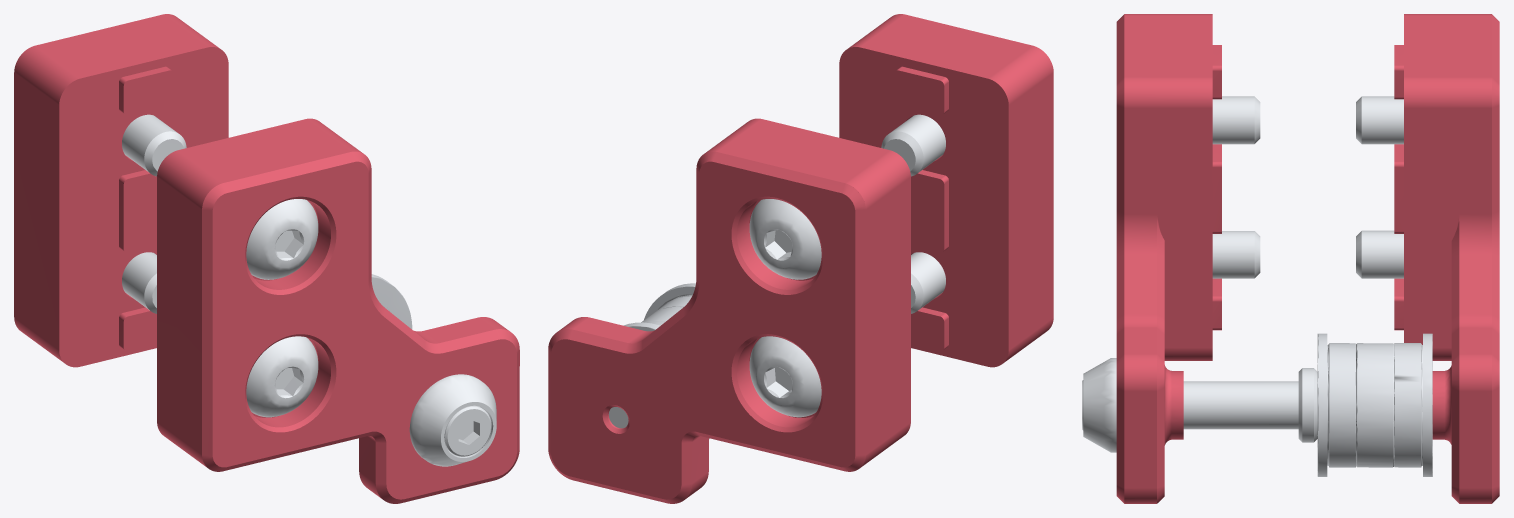
3 views of the same model, side by side, from view 1: azimuth 30°, elevation 25°; view 2: azimuth 150°, elevation 25°; view 3: azimuth 270°, elevation 25° (orthographic). The views are drawn at different scales.
Visible parts, largest first — view 1: B前惰轮_1, B前惰轮, M3铝合金垫圈, M5x12-圆头, M5x12-圆头_9, M5x12-圆头_11, M3x40-杯头, M5x12-圆头_10, 轴承-F695ZZ_5; view 2: B前惰轮, B前惰轮_1, M5x12-圆头_11, M5x12-圆头_10, M5x12-圆头_9, M5x12-圆头, 轴承-F695ZZ_5; view 3: B前惰轮_1, B前惰轮, 非标轴承柱, 轴承-F695ZZ_5, 轴承-F695ZZ, 轴承-695ZZ, M3铝合金垫圈, M5x12-圆头_9, M5x12-圆头_11, M5x12-圆头, M5x12-圆头_10.
Boxes of the visible parts, box(x1,y1,x2,y2) form: B前惰轮_1: box(157, 118, 519, 503); B前惰轮: box(14, 14, 228, 367); M3铝合金垫圈: box(409, 374, 496, 466); M5x12-圆头: box(246, 336, 318, 417); M5x12-圆头_9: box(246, 199, 318, 279); M5x12-圆头_11: box(122, 114, 186, 176); M3x40-杯头: box(444, 405, 491, 456); M5x12-圆头_10: box(122, 252, 156, 313); 轴承-F695ZZ_5: box(371, 274, 412, 329); B前惰轮: box(548, 118, 910, 503); B前惰轮_1: box(839, 14, 1053, 367); M5x12-圆头_11: box(749, 199, 821, 279); M5x12-圆头_10: box(749, 336, 821, 417); M5x12-圆头_9: box(881, 114, 945, 176); M5x12-圆头: box(911, 252, 945, 313); 轴承-F695ZZ_5: box(644, 283, 695, 319); B前惰轮_1: box(1116, 14, 1221, 503); B前惰轮: box(1394, 14, 1499, 503); 非标轴承柱: box(1183, 368, 1317, 442); 轴承-F695ZZ_5: box(1317, 333, 1355, 476); 轴承-F695ZZ: box(1394, 333, 1432, 476); 轴承-695ZZ: box(1356, 343, 1394, 467); M3铝合金垫圈: box(1083, 358, 1116, 452); M5x12-圆头_9: box(1212, 96, 1260, 144); M5x12-圆头_11: box(1356, 96, 1403, 144); M5x12-圆头: box(1212, 231, 1260, 278); M5x12-圆头_10: box(1356, 230, 1403, 278).
Size of the model in its own units: 0.0375 by 0.041 by 0.0436.
